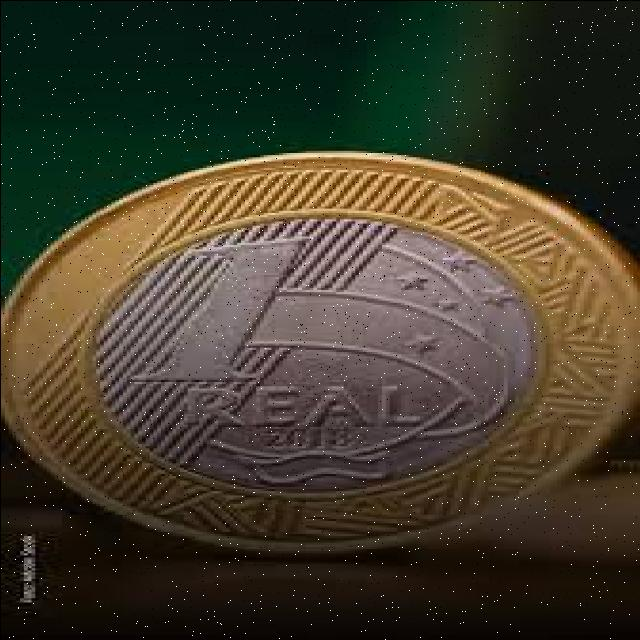1 real: (0, 155, 640, 568)
